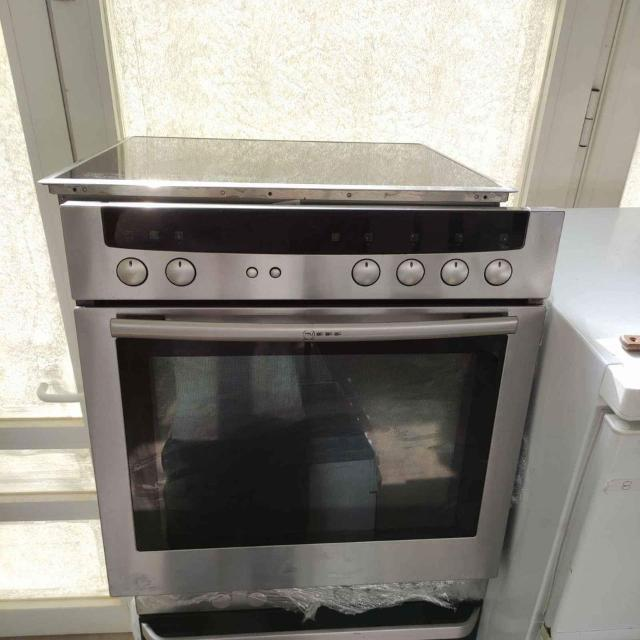Oven: (42, 115, 572, 630)
